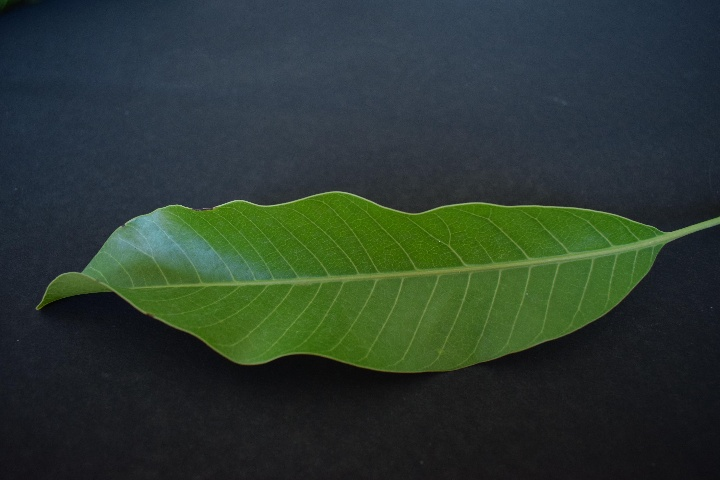healthy: (70, 188, 655, 384)
